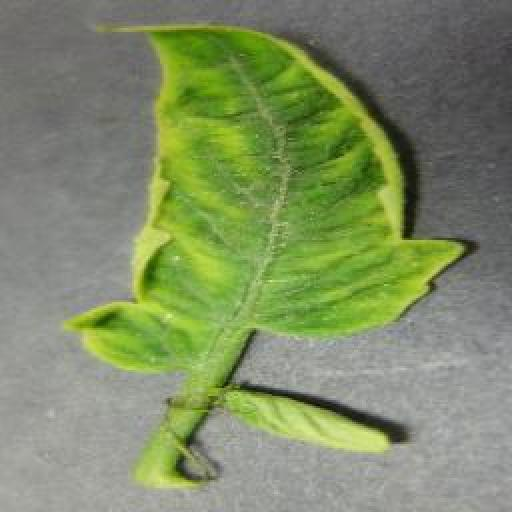disease_tomato: (60, 23, 467, 377), (221, 387, 399, 456)
